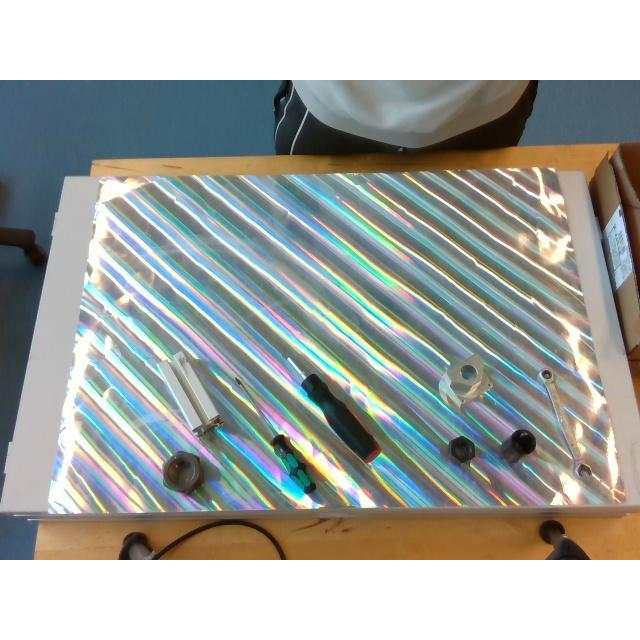M20: (449, 436, 475, 464)
M30: (162, 451, 202, 493)
S40_40_G: (158, 352, 222, 436)
Screwdriver: (233, 378, 314, 494)
Wrench: (538, 370, 592, 482)
